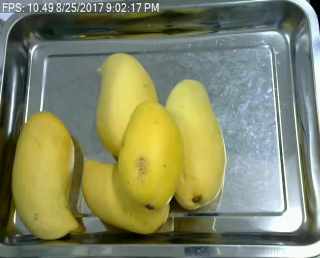Mango: (5, 108, 80, 243), (161, 77, 232, 210), (92, 50, 159, 164), (114, 101, 184, 210), (80, 157, 176, 234)
